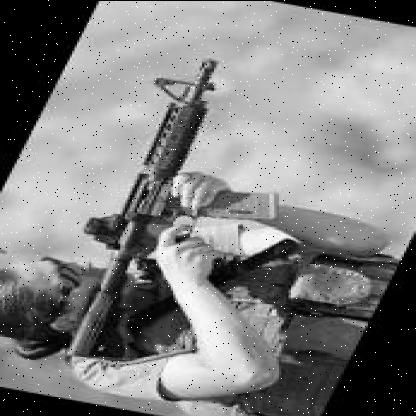rifle: (29, 46, 341, 380)
